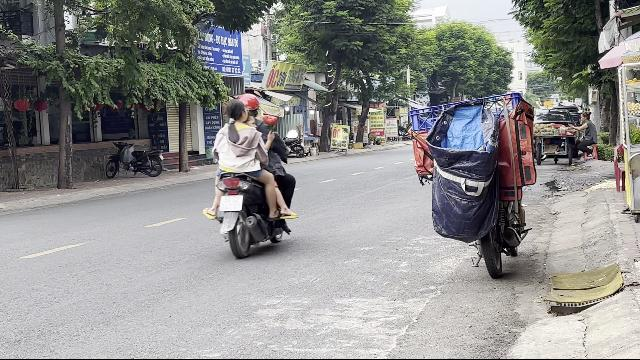helmet: (238, 93, 260, 118)
licenseplate: (220, 195, 242, 210)
motorcyclist: (205, 93, 298, 257)
nohelmet: (224, 98, 246, 124)
